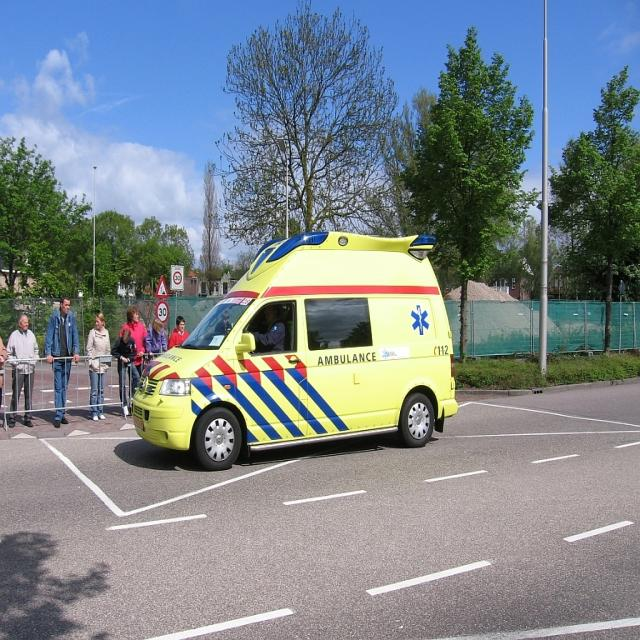Ambulance: (131, 227, 458, 472)
